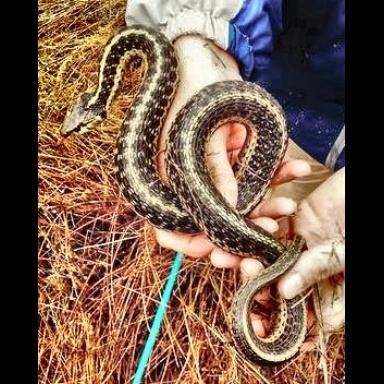snake: (63, 25, 342, 384)
